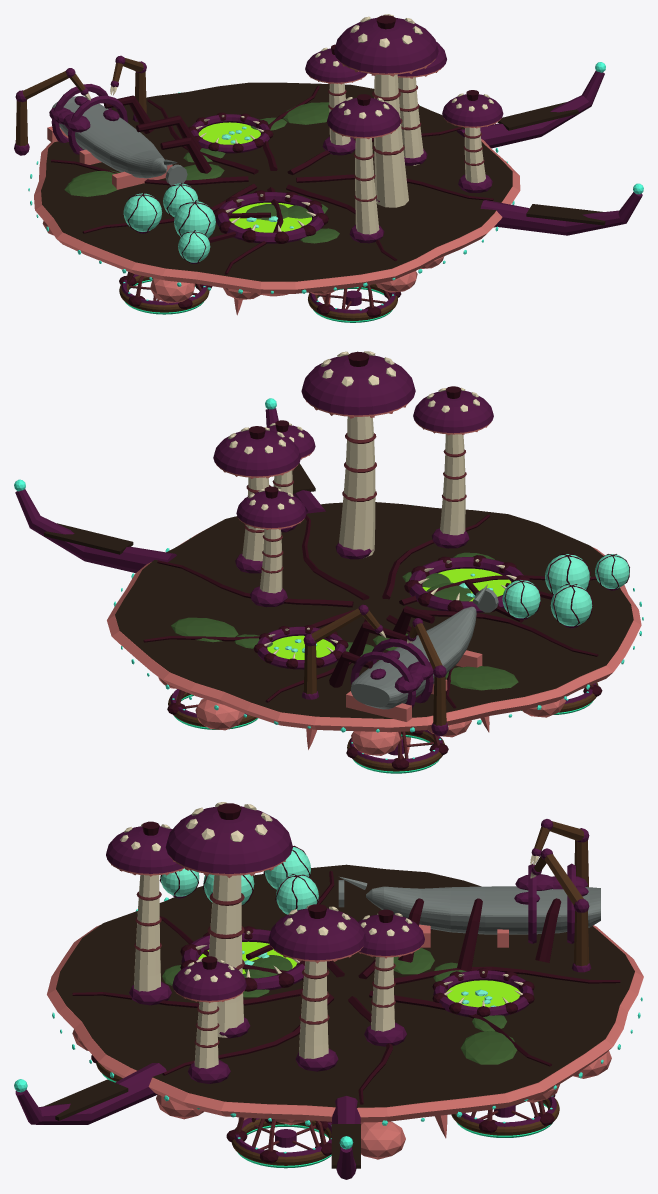
The model's file is station_industrial.obj.
3 renders of one model, top to bottom at view 1: azimuth 30°, elevation 25°; view 2: azimuth 150°, elevation 25°; view 3: azimuth 270°, elevation 25°, orthographic. The views are drawn at different scales.
Visible parts, largest first — view 1: station_industrial; view 2: station_industrial; view 3: station_industrial.
Boxes of the visible parts, x1=… form: station_industrial: x1=14, y1=14, x2=643, y2=322; station_industrial: x1=14, y1=351, x2=643, y2=773; station_industrial: x1=14, y1=802, x2=643, y2=1179.
Size of the model in its own units: 1400 by 691 by 1145.
Materials: 1 (1 with a texture image).
